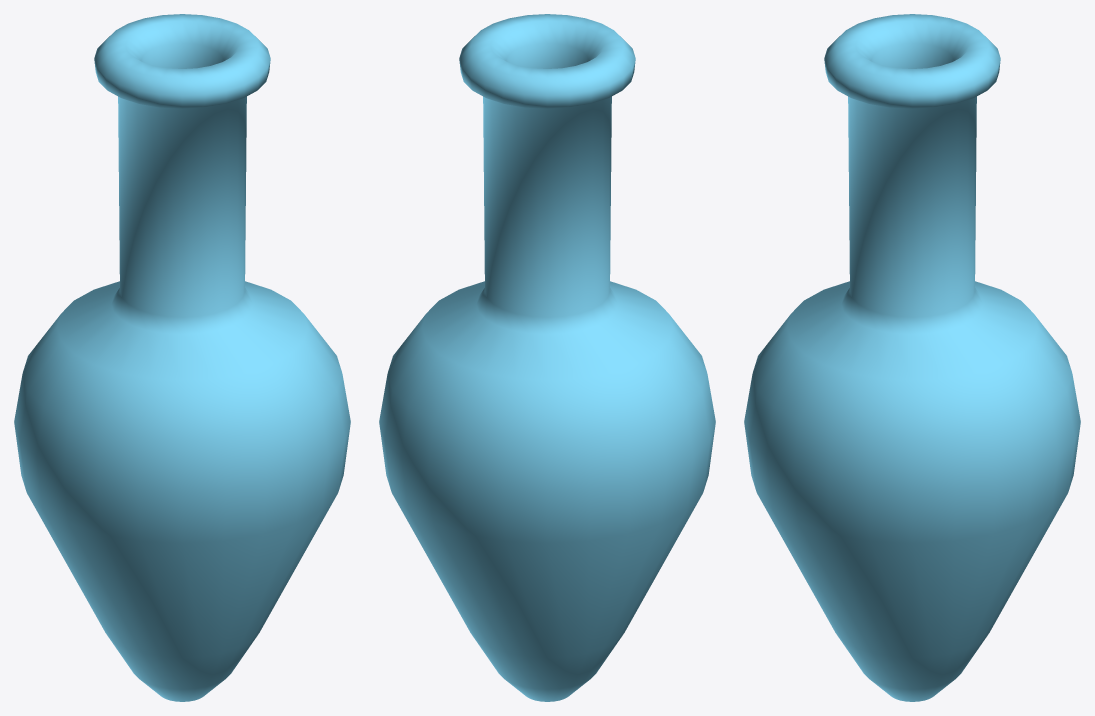
Rendered from Flask, Pear Shaped, Long Neck.fbx.
The picture shows the model from 3 angles, left to right: view 1: azimuth 30°, elevation 25°; view 2: azimuth 150°, elevation 25°; view 3: azimuth 270°, elevation 25°; orthographic projection.
Visible parts, largest first — view 1: Flask, Pear Shaped, Long Neck_LOD0; view 2: Flask, Pear Shaped, Long Neck_LOD0; view 3: Flask, Pear Shaped, Long Neck_LOD0.
Boxes of the visible parts, <box> form: Flask, Pear Shaped, Long Neck_LOD0: <box>14,14,350,701</box>; Flask, Pear Shaped, Long Neck_LOD0: <box>379,14,715,701</box>; Flask, Pear Shaped, Long Neck_LOD0: <box>744,14,1080,701</box>.
Size of what is drawn, in the model's own units: 0.4179 by 0.8939 by 0.4179.
